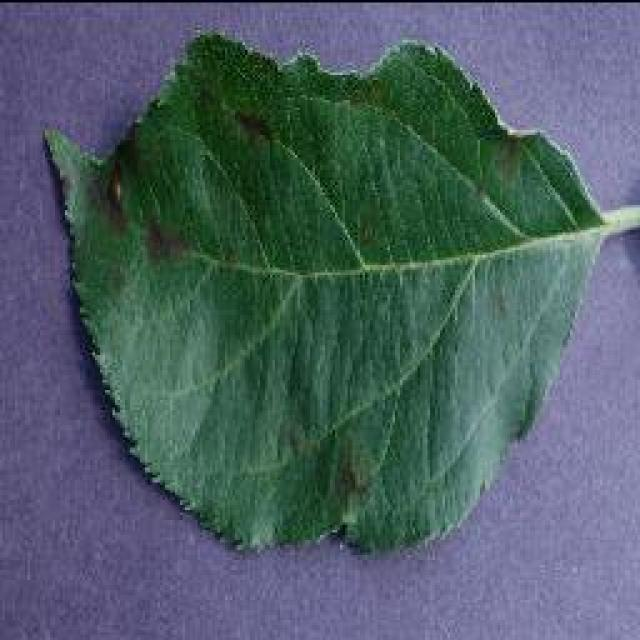apple scab disease: (40, 28, 638, 558)
